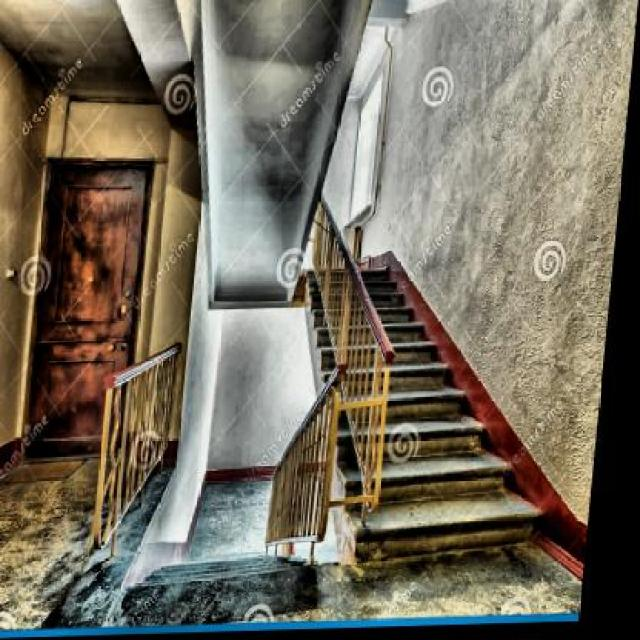stair: (338, 198, 574, 552)
